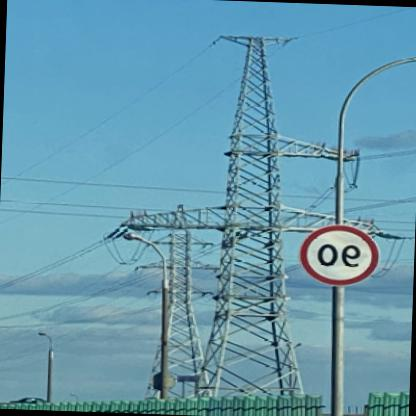speedlimit: (301, 222, 384, 286)
